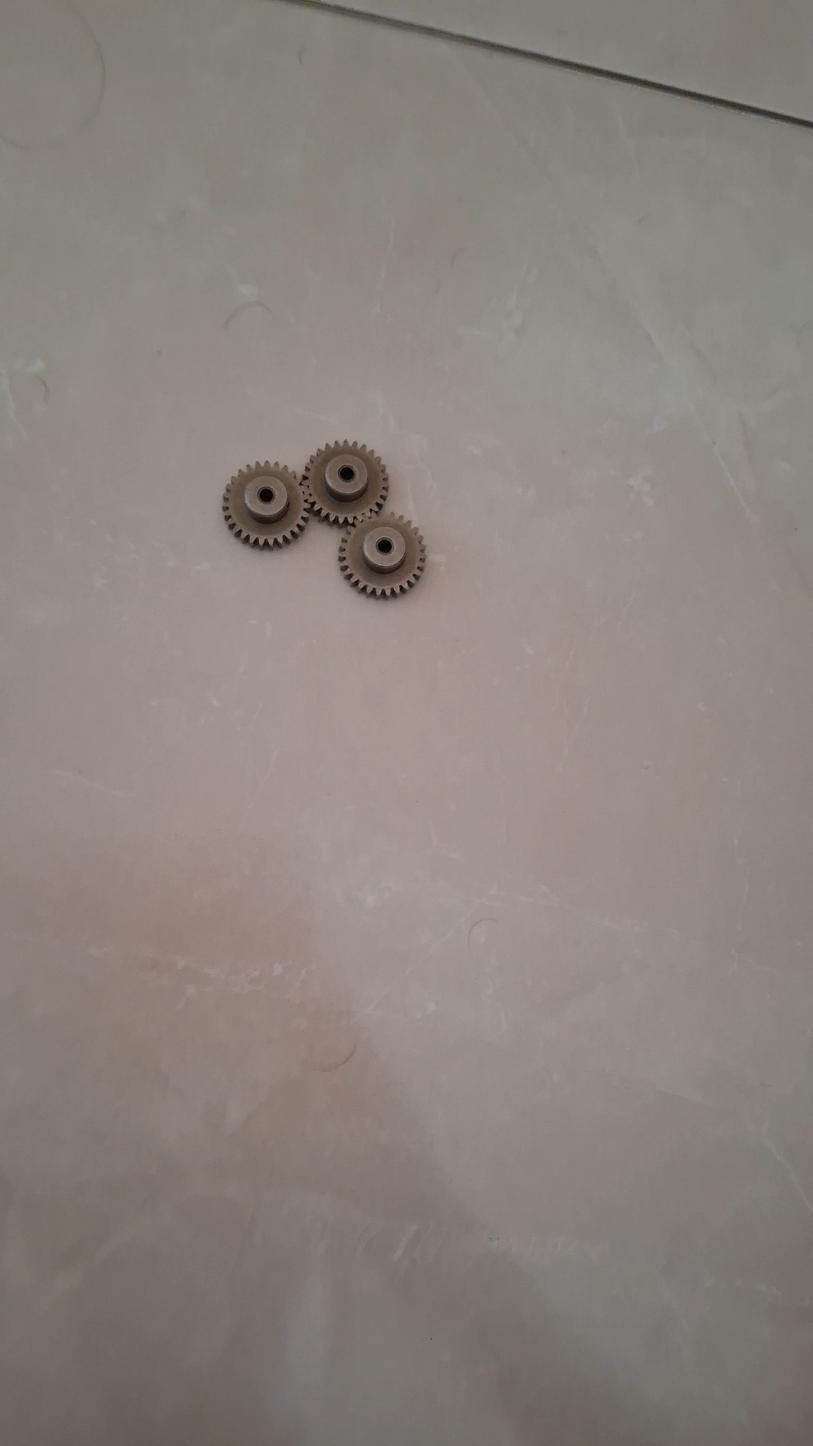spur gear: (223, 461, 308, 547), (303, 440, 388, 525), (339, 514, 426, 596)
